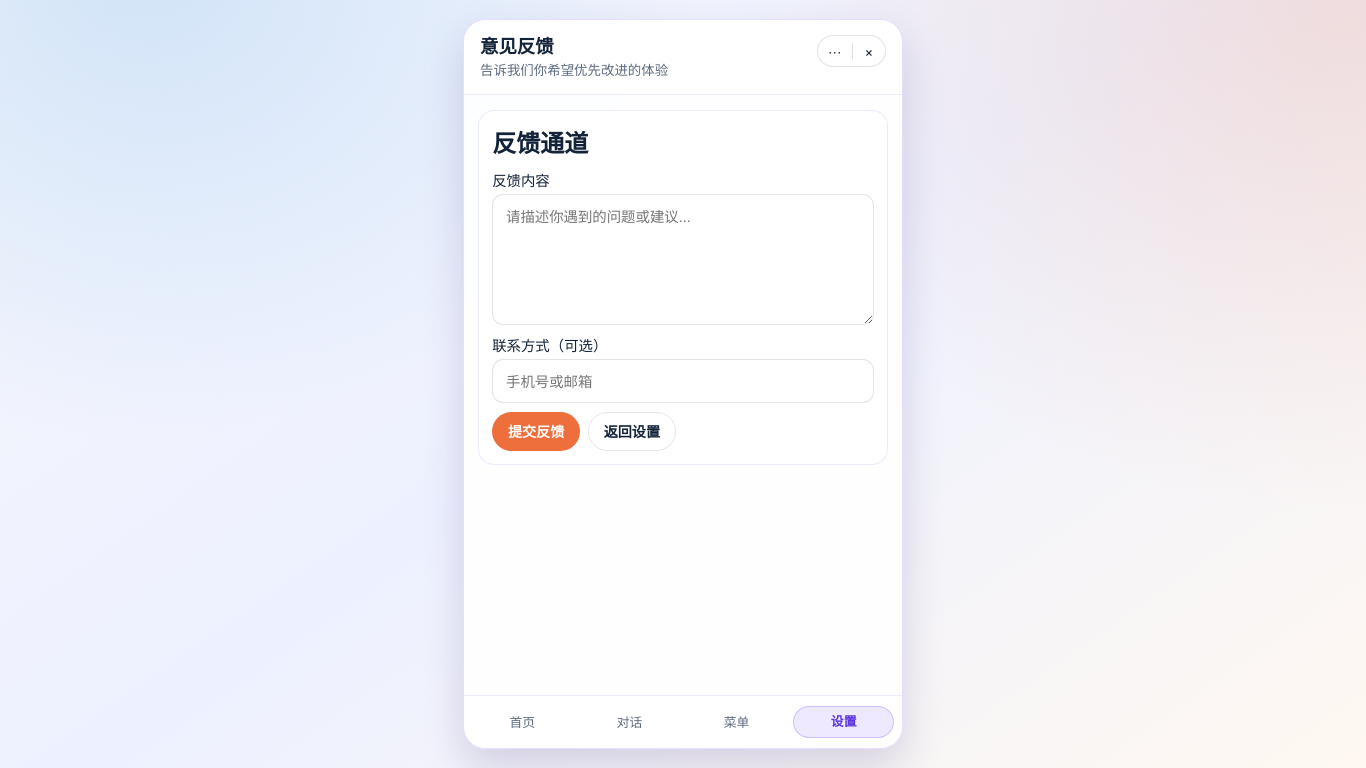
Scenario: FeedbackPage › validates empty content and supports local submit
Check: the heading "意见反馈" is shown, box [480,32,554,59]
Step 1. Click the button "提交反馈" → [536, 432], box [492,412,580,451]
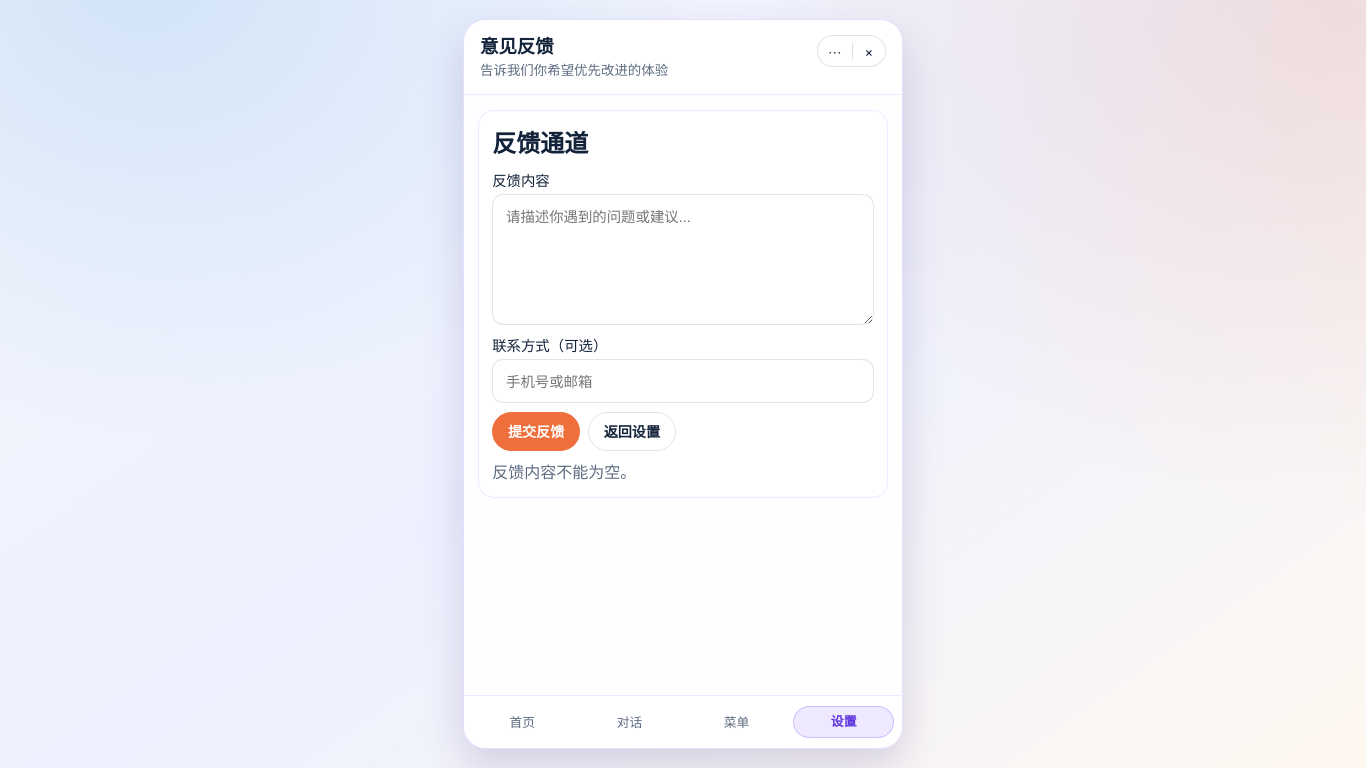
Check: the text "反馈内容不能为空。" is shown, box [492,460,636,483]
Step 2. Type "希望增加家庭任务完成率趋势图。" into the text box labelled "反馈内容" → [683, 259], box [492,194,874,325]
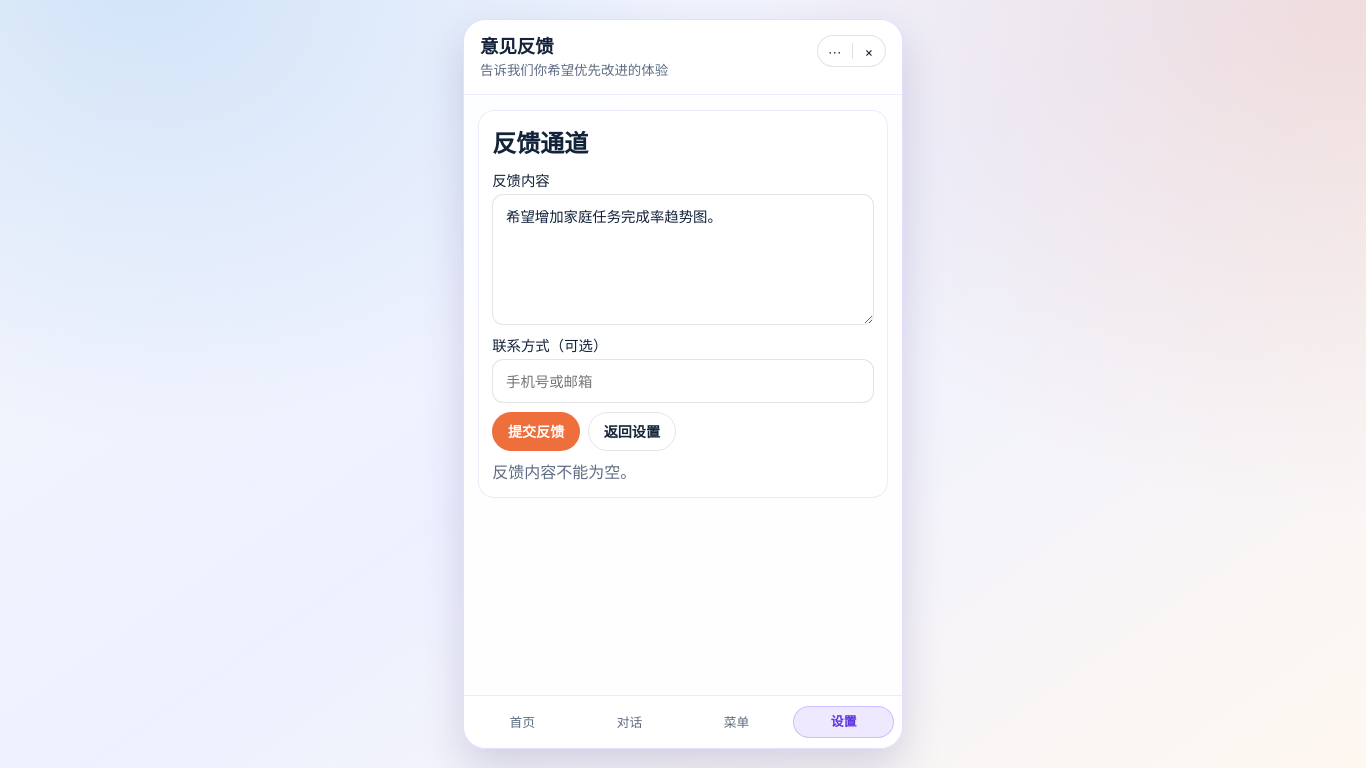
Step 3. Type "18500001111" into the field labelled "联系方式（可选）" → [683, 381], box [492,359,874,403]
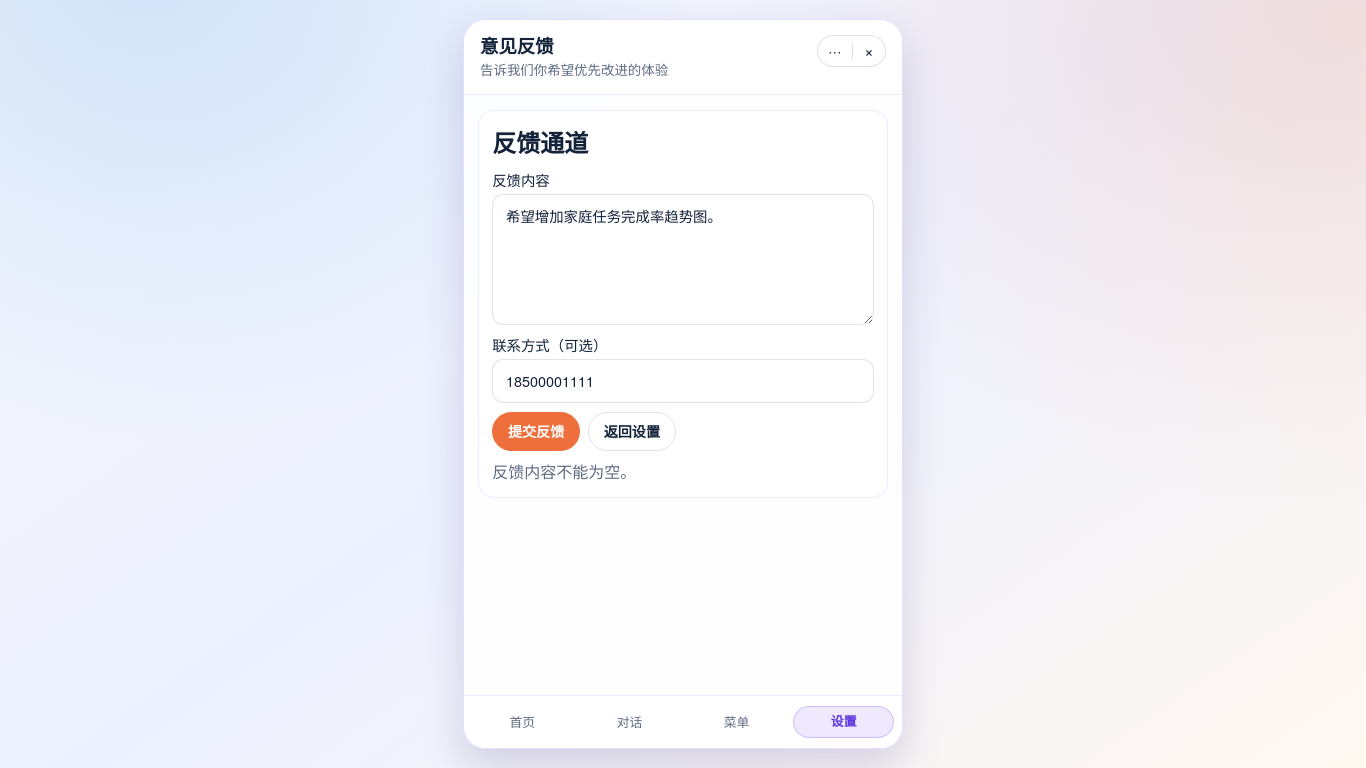
Step 4. Click the button "提交反馈" → [536, 432], box [492,412,580,451]
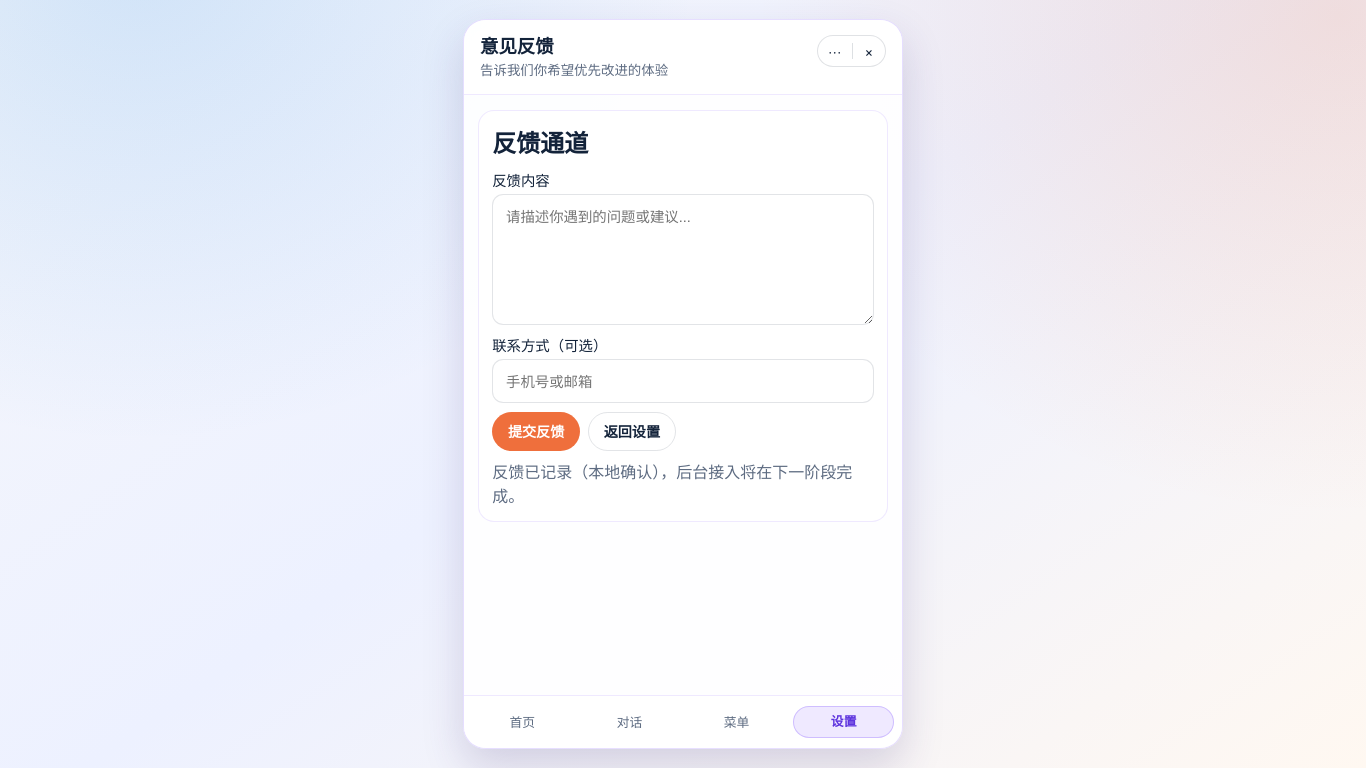
Check: the text "反馈已记录（本地确认），后台接入将在下一阶段完成。" is shown, box [492,460,874,508]
